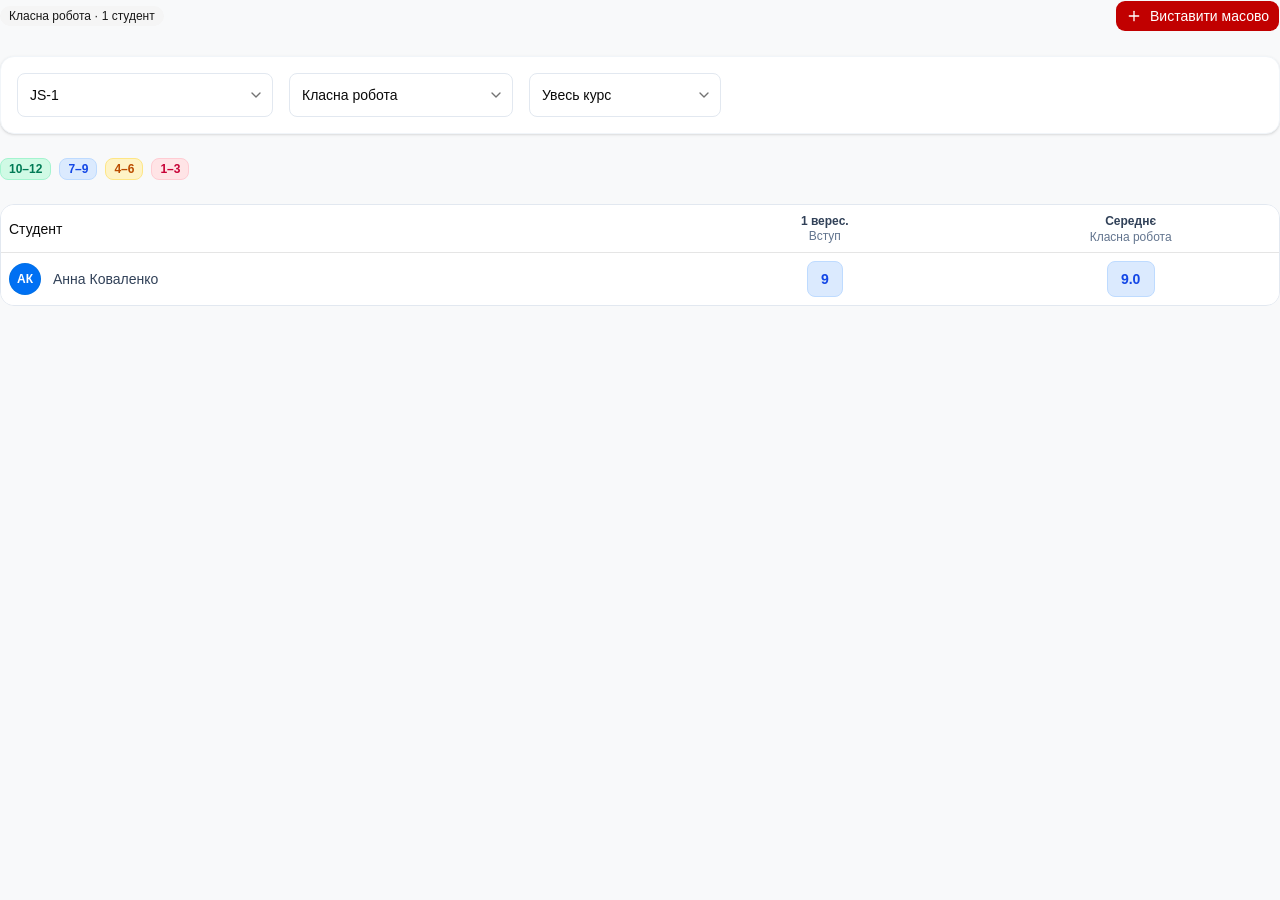
GradesPage — видалення оцінки › викладач не бачить кнопки видалення
This screenshot has width=1280, height=900.
Click the button named "оцінка 9" at {"x": 825, "y": 279}, box [807, 261, 843, 297]
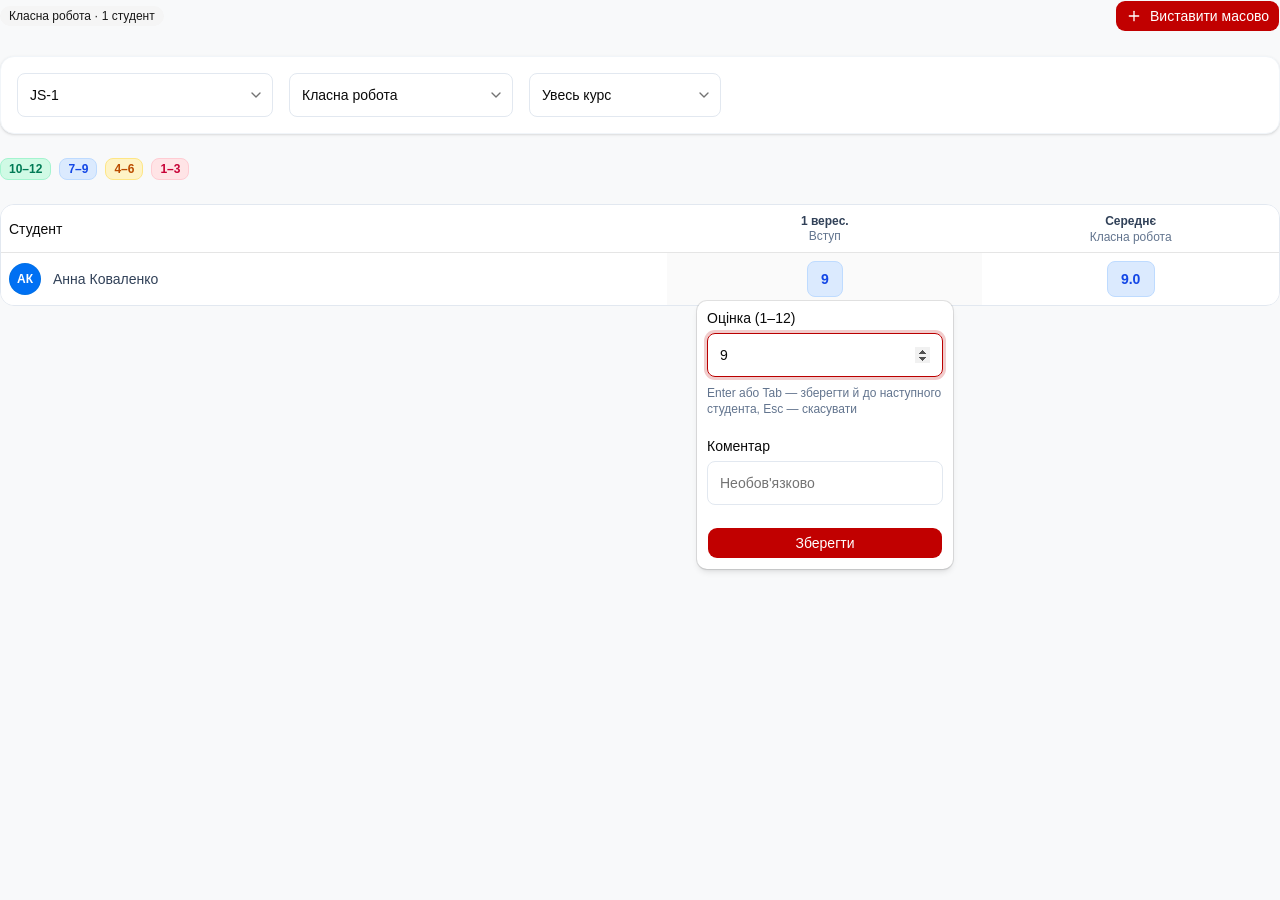
Expected: the button "Зберегти" is shown, [707, 527, 943, 559]
